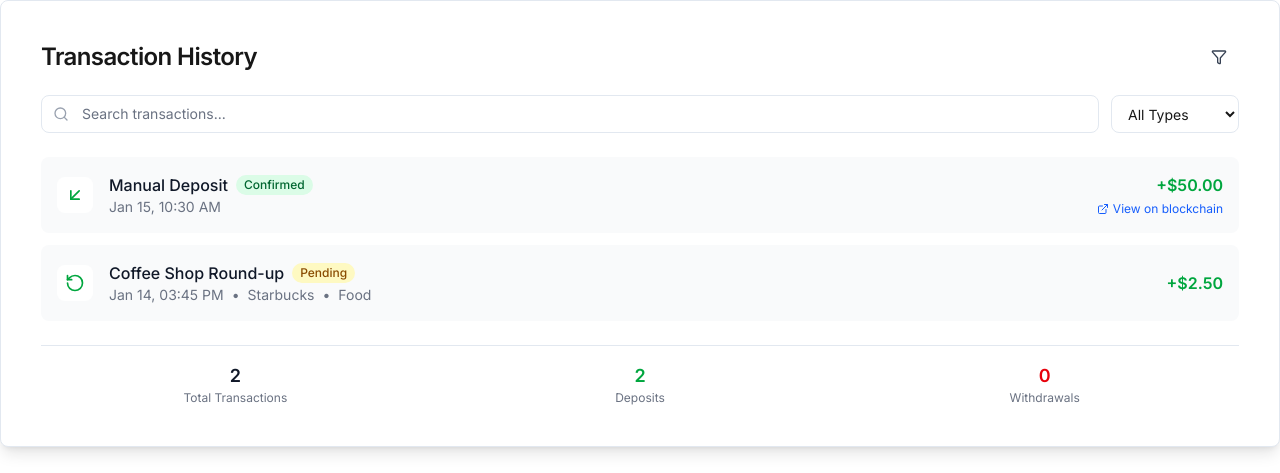
Dashboard Components › TransactionHistory › filters transactions by search term
In the field with placeholder "Search transactions...": (570, 114) [41,95,1099,133], type "coffee"
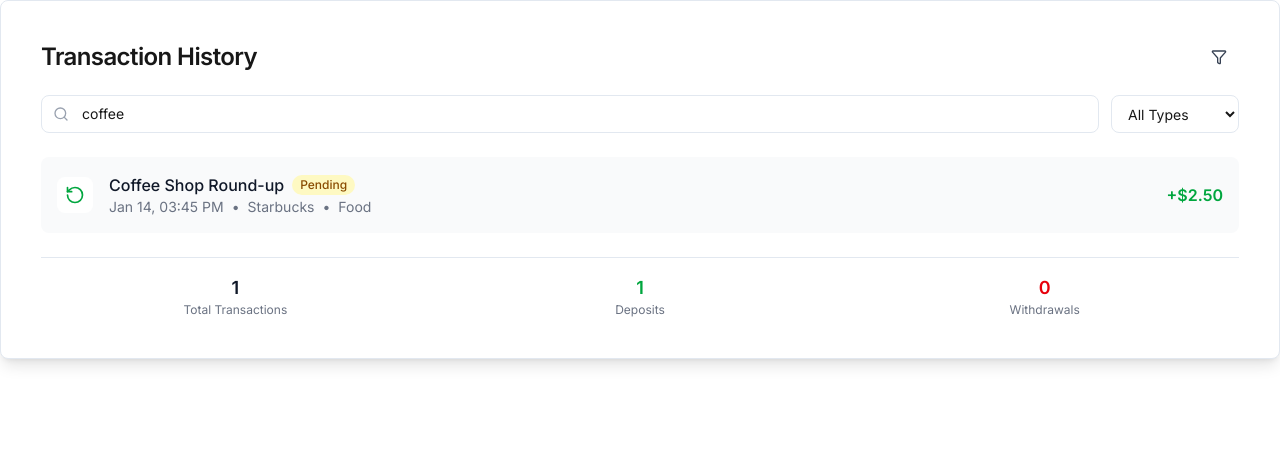
Expected: the heading "Coffee Shop Round-up" is shown, [109,173,284,197]
Expected: the heading "Manual Deposit" is gone
